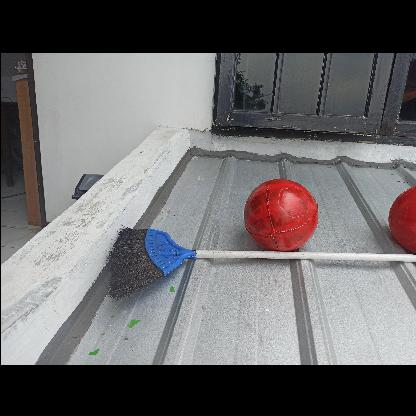red_ball: (245, 177, 317, 249)
